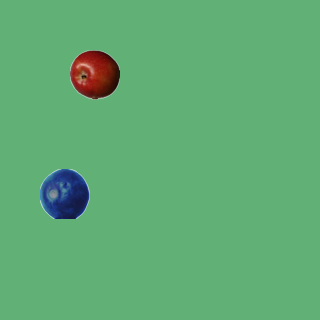Apple Braeburn: (69, 49, 119, 99)
Huckleberry: (39, 168, 89, 218)
